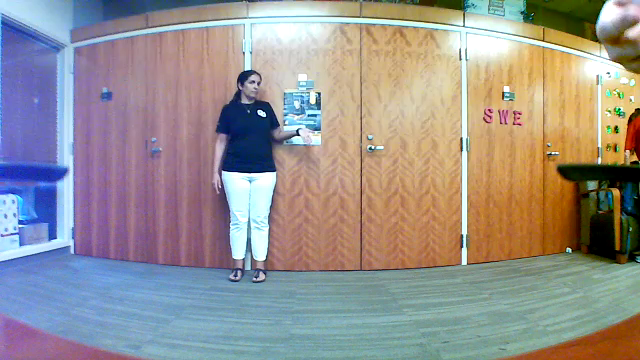land: (288, 123, 320, 152)
